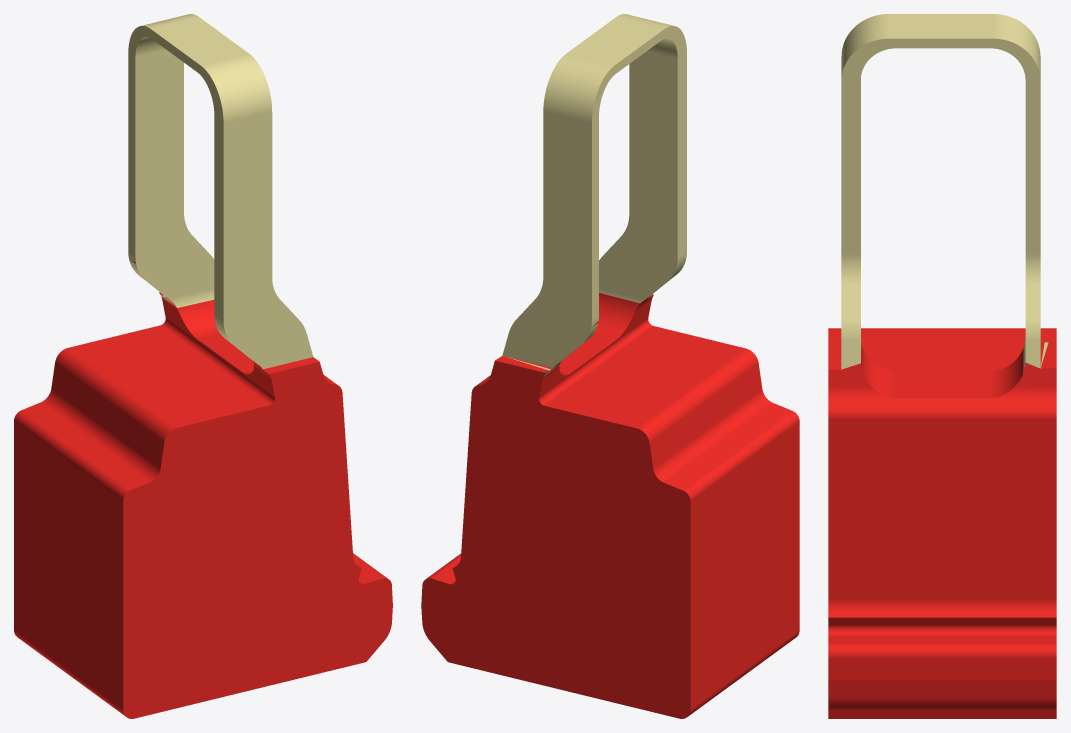
File: forkliftv2_Forklift_Chassis.dae
The picture shows the model from 3 angles, left to right: view 1: azimuth 30°, elevation 25°; view 2: azimuth 150°, elevation 25°; view 3: azimuth 270°, elevation 25°; orthographic projection. The views are drawn at different scales.
Visible parts, largest first — view 1: node0; view 2: node0; view 3: node0.
Part boxes in pixels (box(x1,y1,x2,y2)): node0: box(14, 14, 392, 718); node0: box(421, 14, 799, 718); node0: box(828, 14, 1056, 718).
Size of the model in its own units: 1.07 by 0.75 by 2.3.
